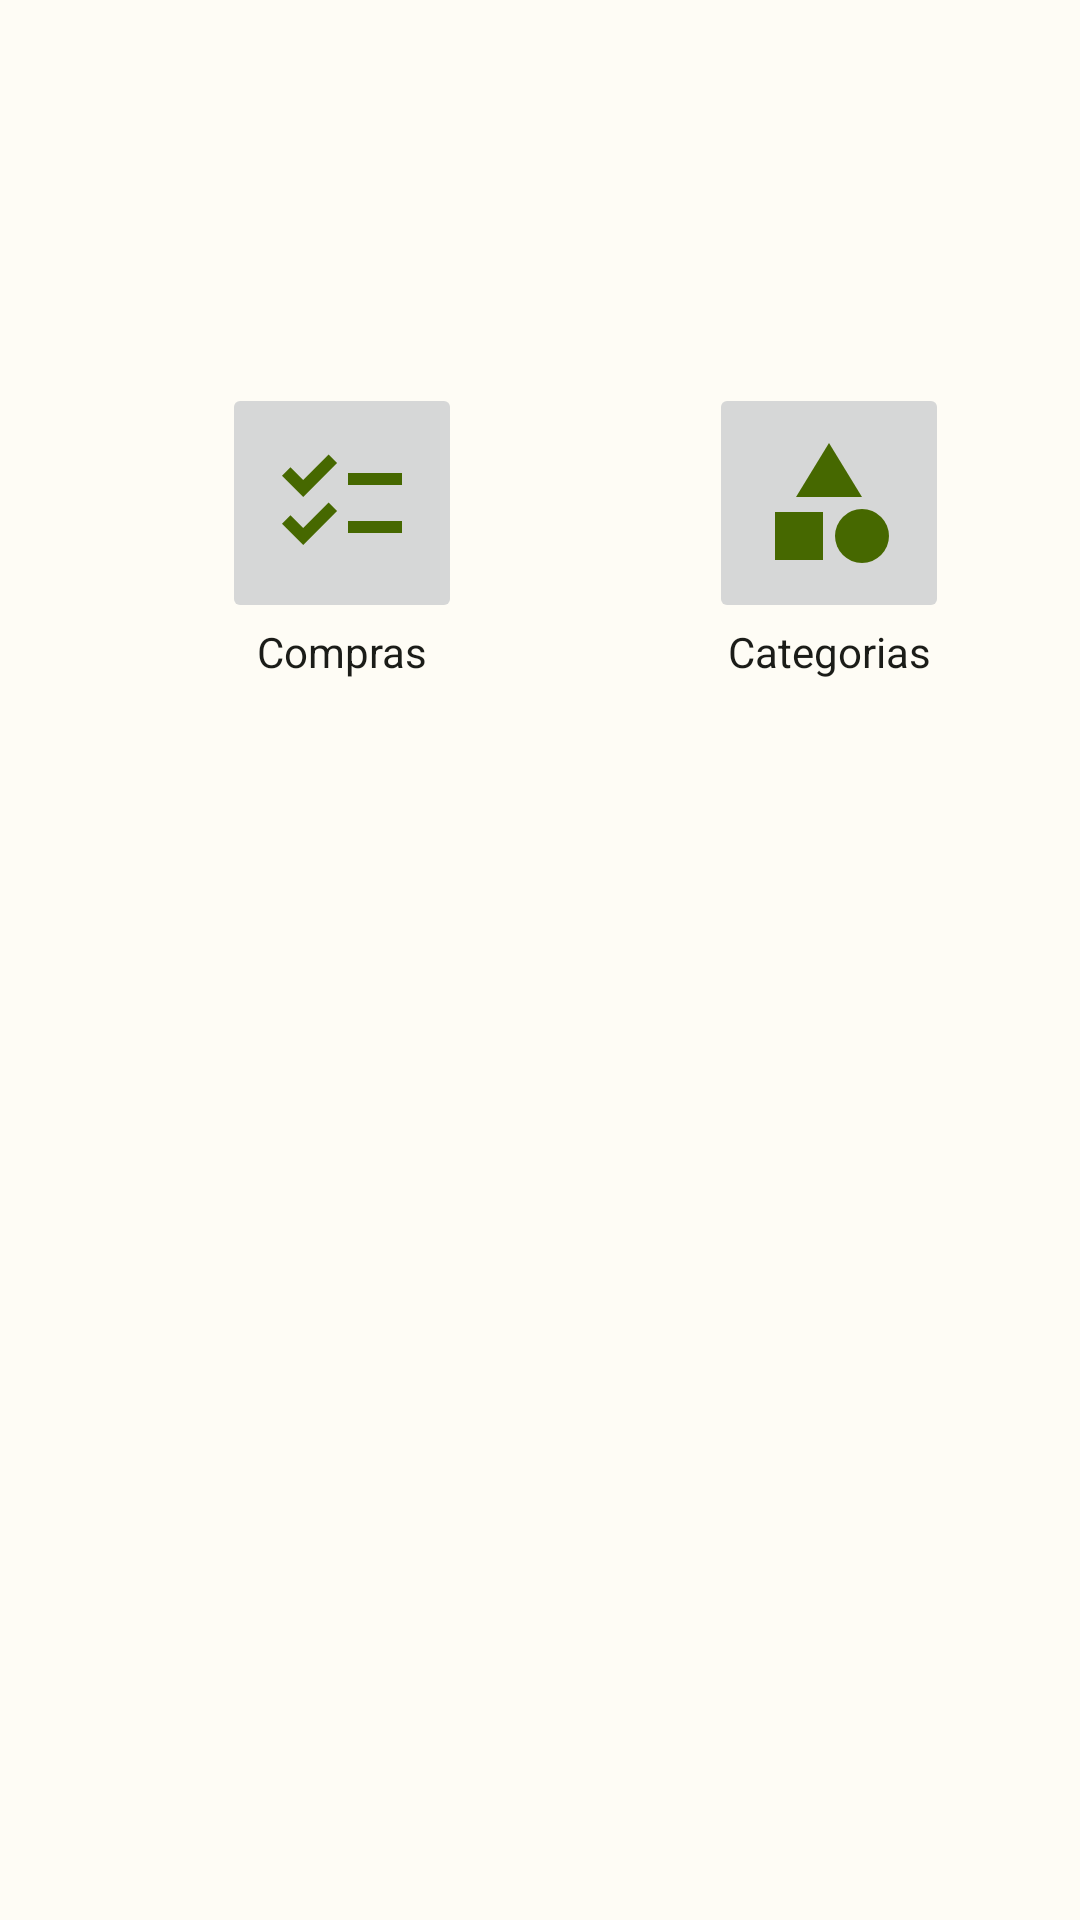

Locate icon controls on the screen. Image size 1080 × 1920, boxes as bbox=(x1, y1, x2, y2).
checklist: bbox=(234, 401, 450, 605)
